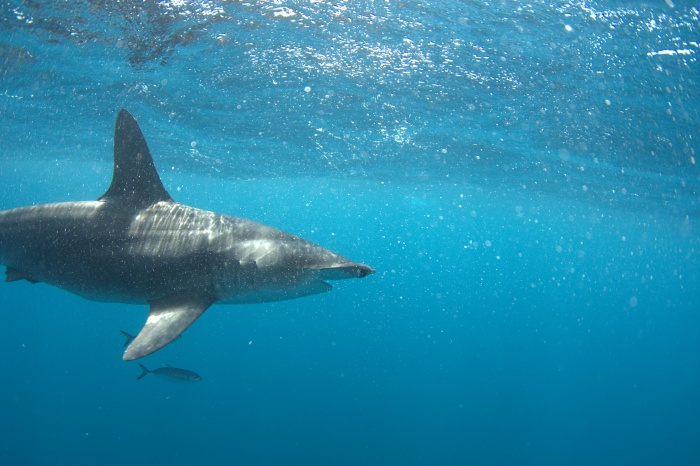Hammer: (11, 93, 431, 394)
